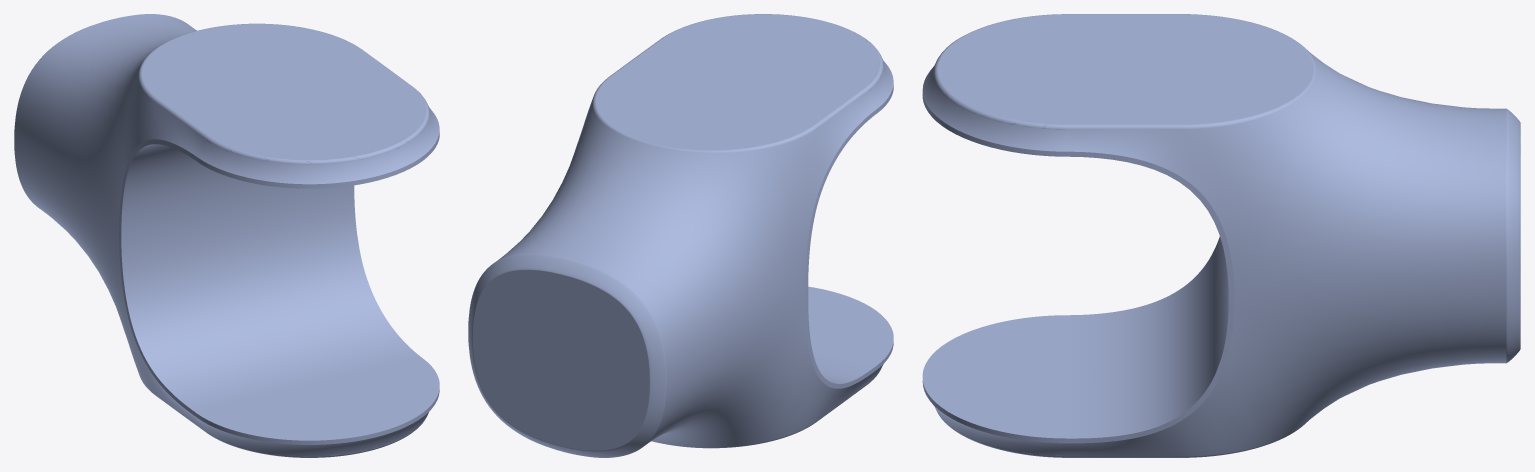
Rendered from 小原子右小臂.glb.
The picture shows the model from 3 angles, left to right: view 1: azimuth 30°, elevation 25°; view 2: azimuth 150°, elevation 25°; view 3: azimuth 270°, elevation 25°; orthographic projection. The views are drawn at different scales.
Bounding box in the file's own units: 0.0626 × 0.0764 × 0.1244.
